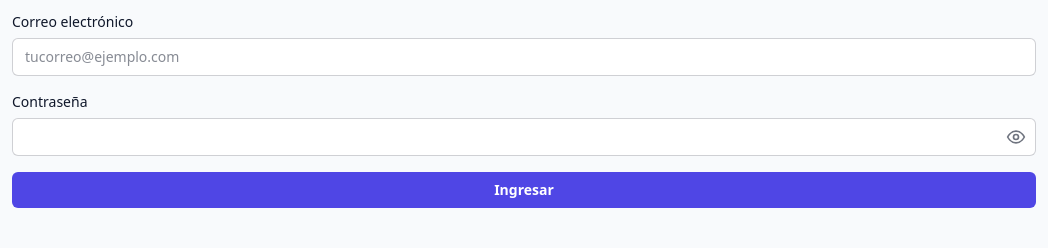
Scenario: FormularioLogin › con un correo mal escrito muestra el mensaje de correo inválido
The width and height of the screenshot is (1048, 248).
In the field labelled "Correo electrónico": (524, 57) left=12, top=38, right=1036, bottom=76, type "sin-arroba"
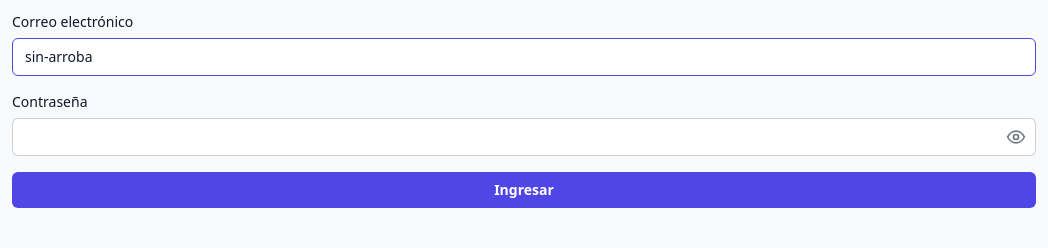
In the password field labelled "Contraseña": (524, 137) left=12, top=118, right=1036, bottom=156, type "clave-de-ejemplo"
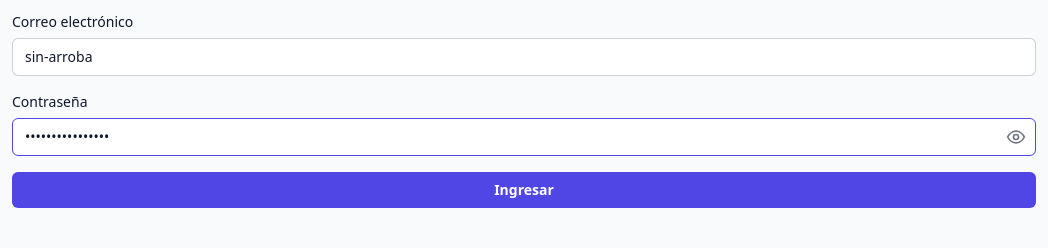
Click the button "Ingresar": (524, 190) left=12, top=172, right=1036, bottom=208
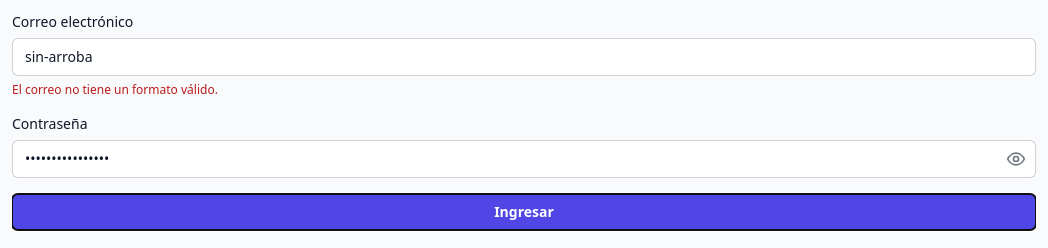
Expected: the text "El correo no tiene un formato válido." is shown, left=12, top=81, right=218, bottom=98
